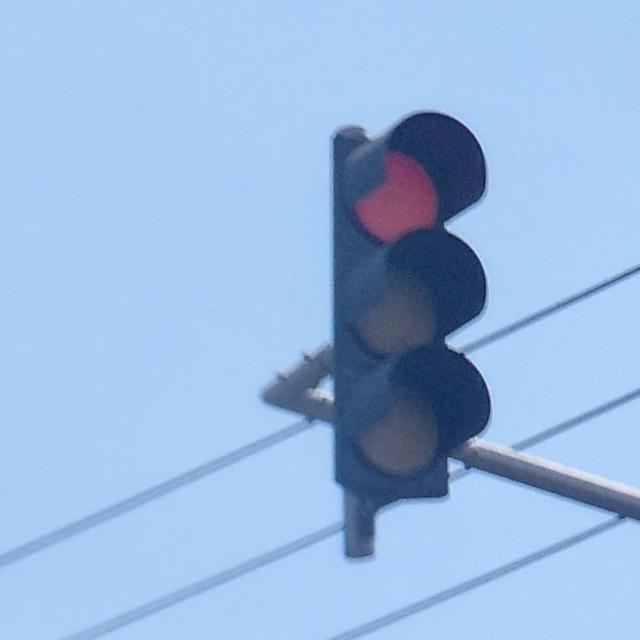red_light: (332, 110, 488, 502)
